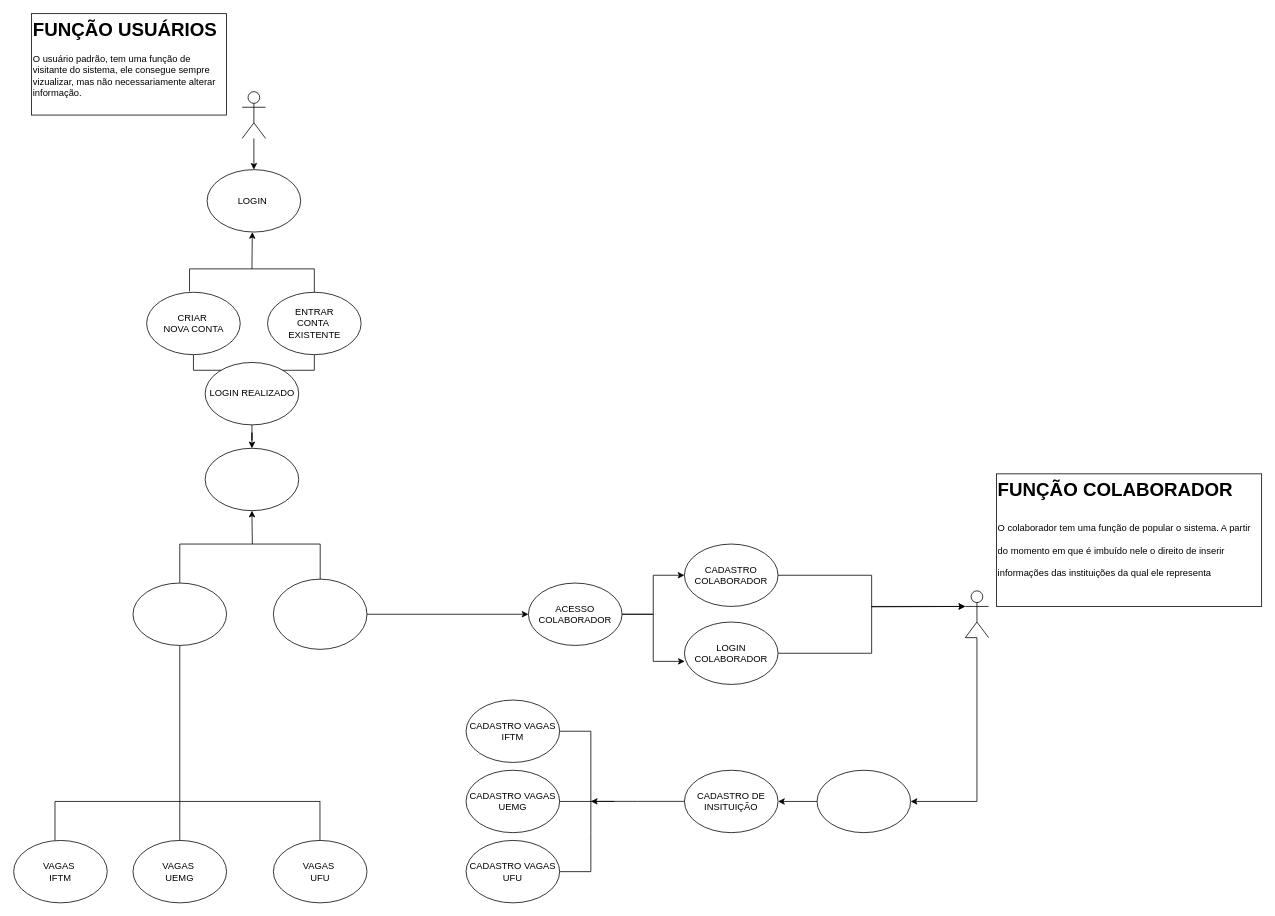
Some shapes in this 1275 by 916 pixel diagram are drawn without their labels. Each missing label, with the box of its shape:
CADASTRAR VAGAS: (273, 578, 367, 649)
CADASTRO DE VAGAS: (816, 769, 911, 833)
COLABORADOR: (964, 590, 989, 638)
USUÁRIO: (241, 91, 266, 138)
VAGAS: (204, 447, 299, 511)
VIZUALIZAR VAGAS: (132, 582, 227, 645)
